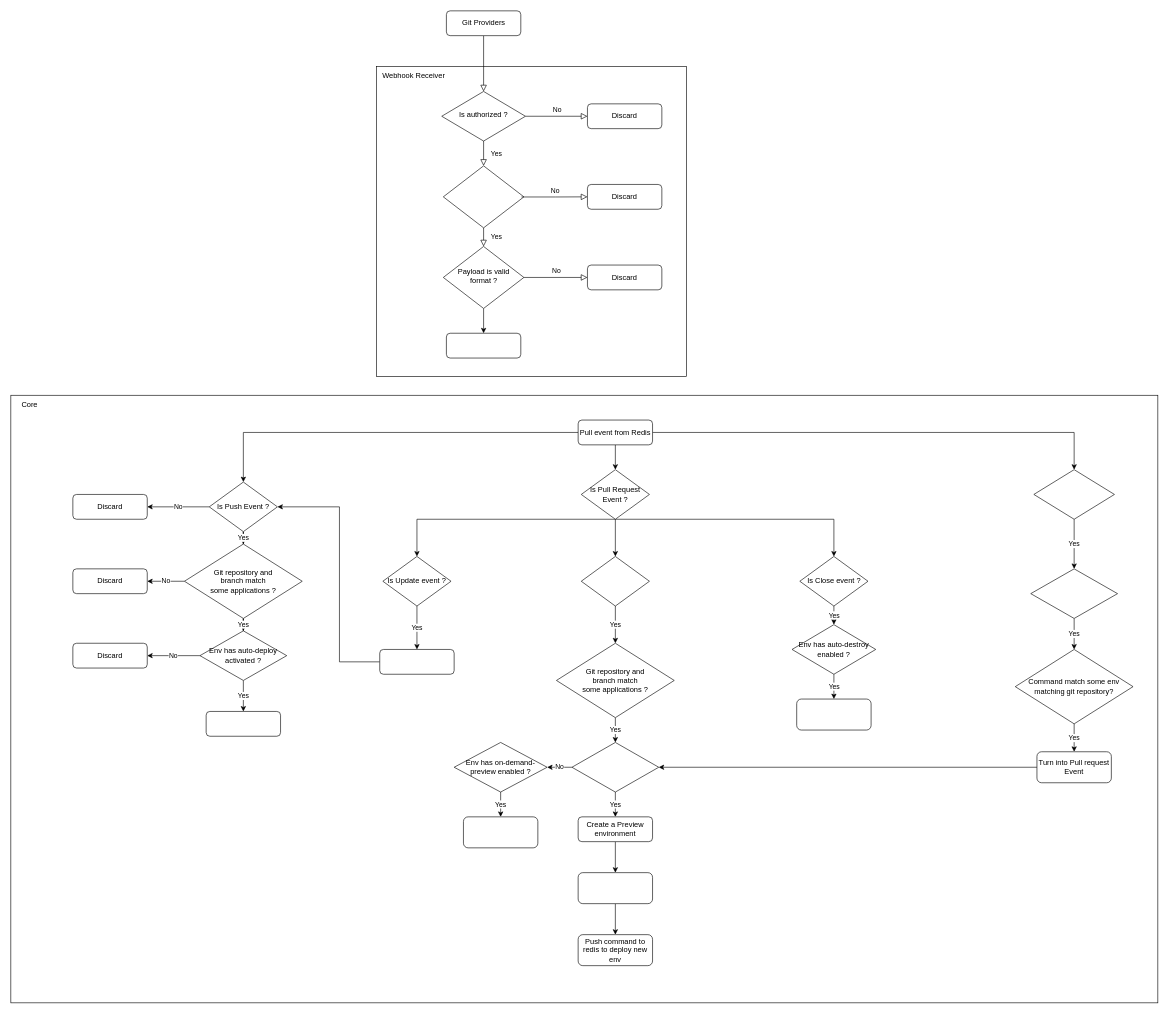
The diagram is 1169 pixels wide and 1014 high, and some of its shapes have lost their labels. Each missing label, with the box of its shape:
Contains Qovery command ?: (1030, 568, 1118, 618)
Env has auto-preview enabled ?: (571, 742, 659, 792)
Is Create event ?: (581, 556, 649, 606)
Is Pull Request comment event ?: (1033, 469, 1114, 519)
Payload is supported event ?: (443, 165, 524, 228)
Post comment on PR to inform users of Commands: (463, 816, 538, 848)
Post comment on PR to inform users of new URLs: (578, 872, 653, 904)
Push command to redis to Delete environment: (796, 698, 871, 730)
Push to Redis: (446, 333, 521, 358)
Transform PR to Push event: (379, 649, 454, 674)
Update commit Id of aplpications: (206, 711, 281, 736)
